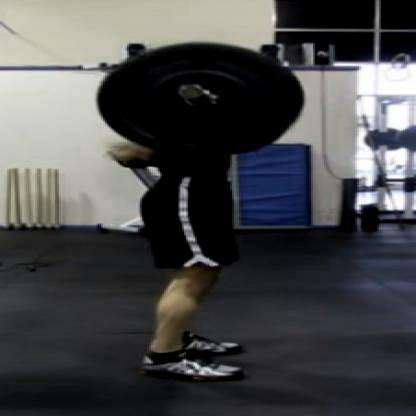Barbell: (176, 80, 209, 101)
